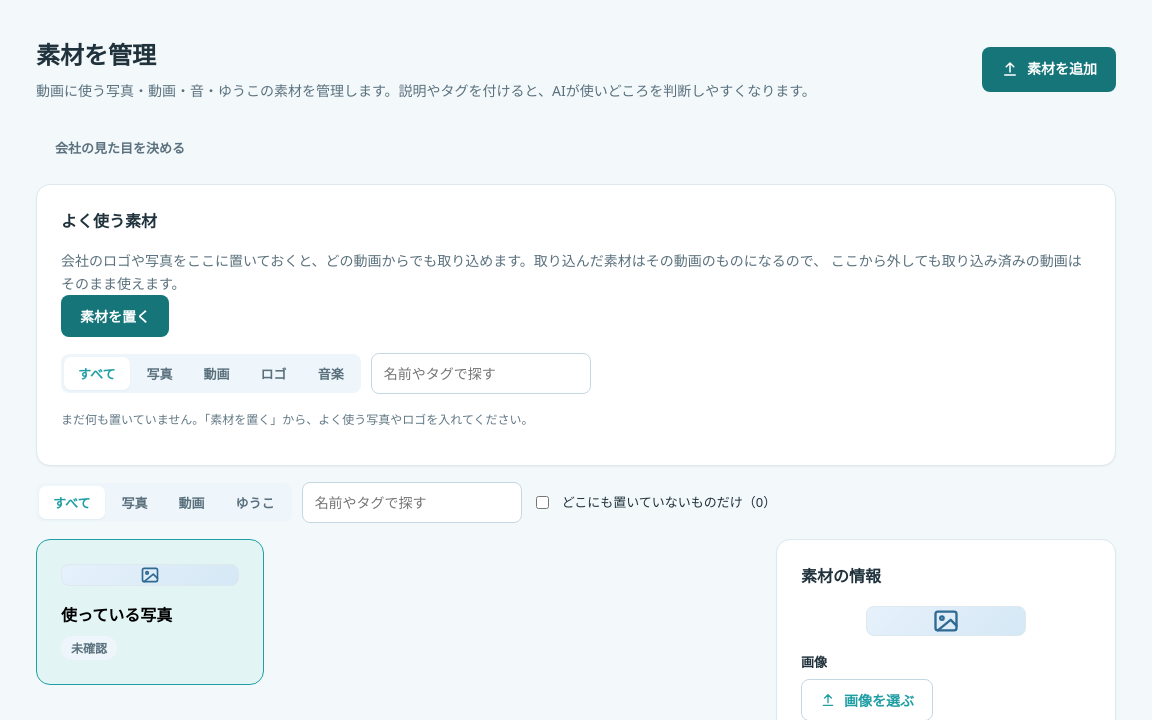
Test: MaterialsScreen 使っていない素材（#348） › 全部使えているときは「使っていない素材はありません」と言う
Step 1. Click the checkbox labelled "どこにも置いていないものだけ（0）" → (542, 503), box x1=536 y1=496 x2=549 y2=509
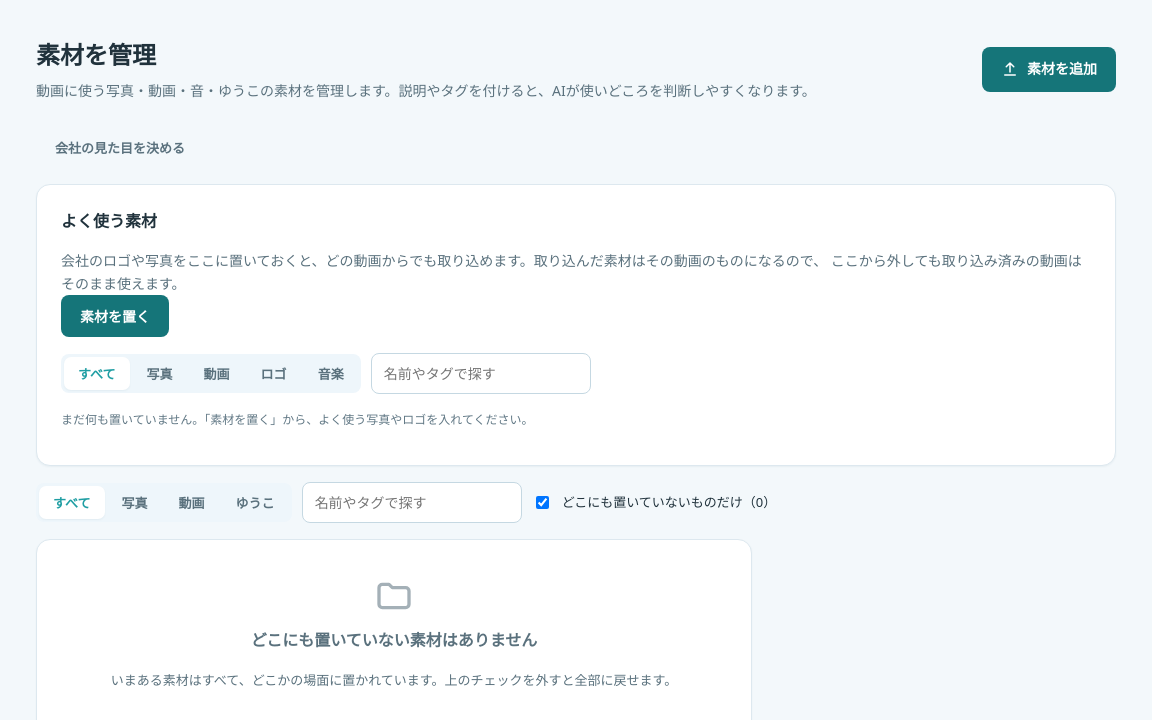
Expected: the heading "どこにも置いていない素材はありません" is shown, x1=251 y1=629 x2=537 y2=651
